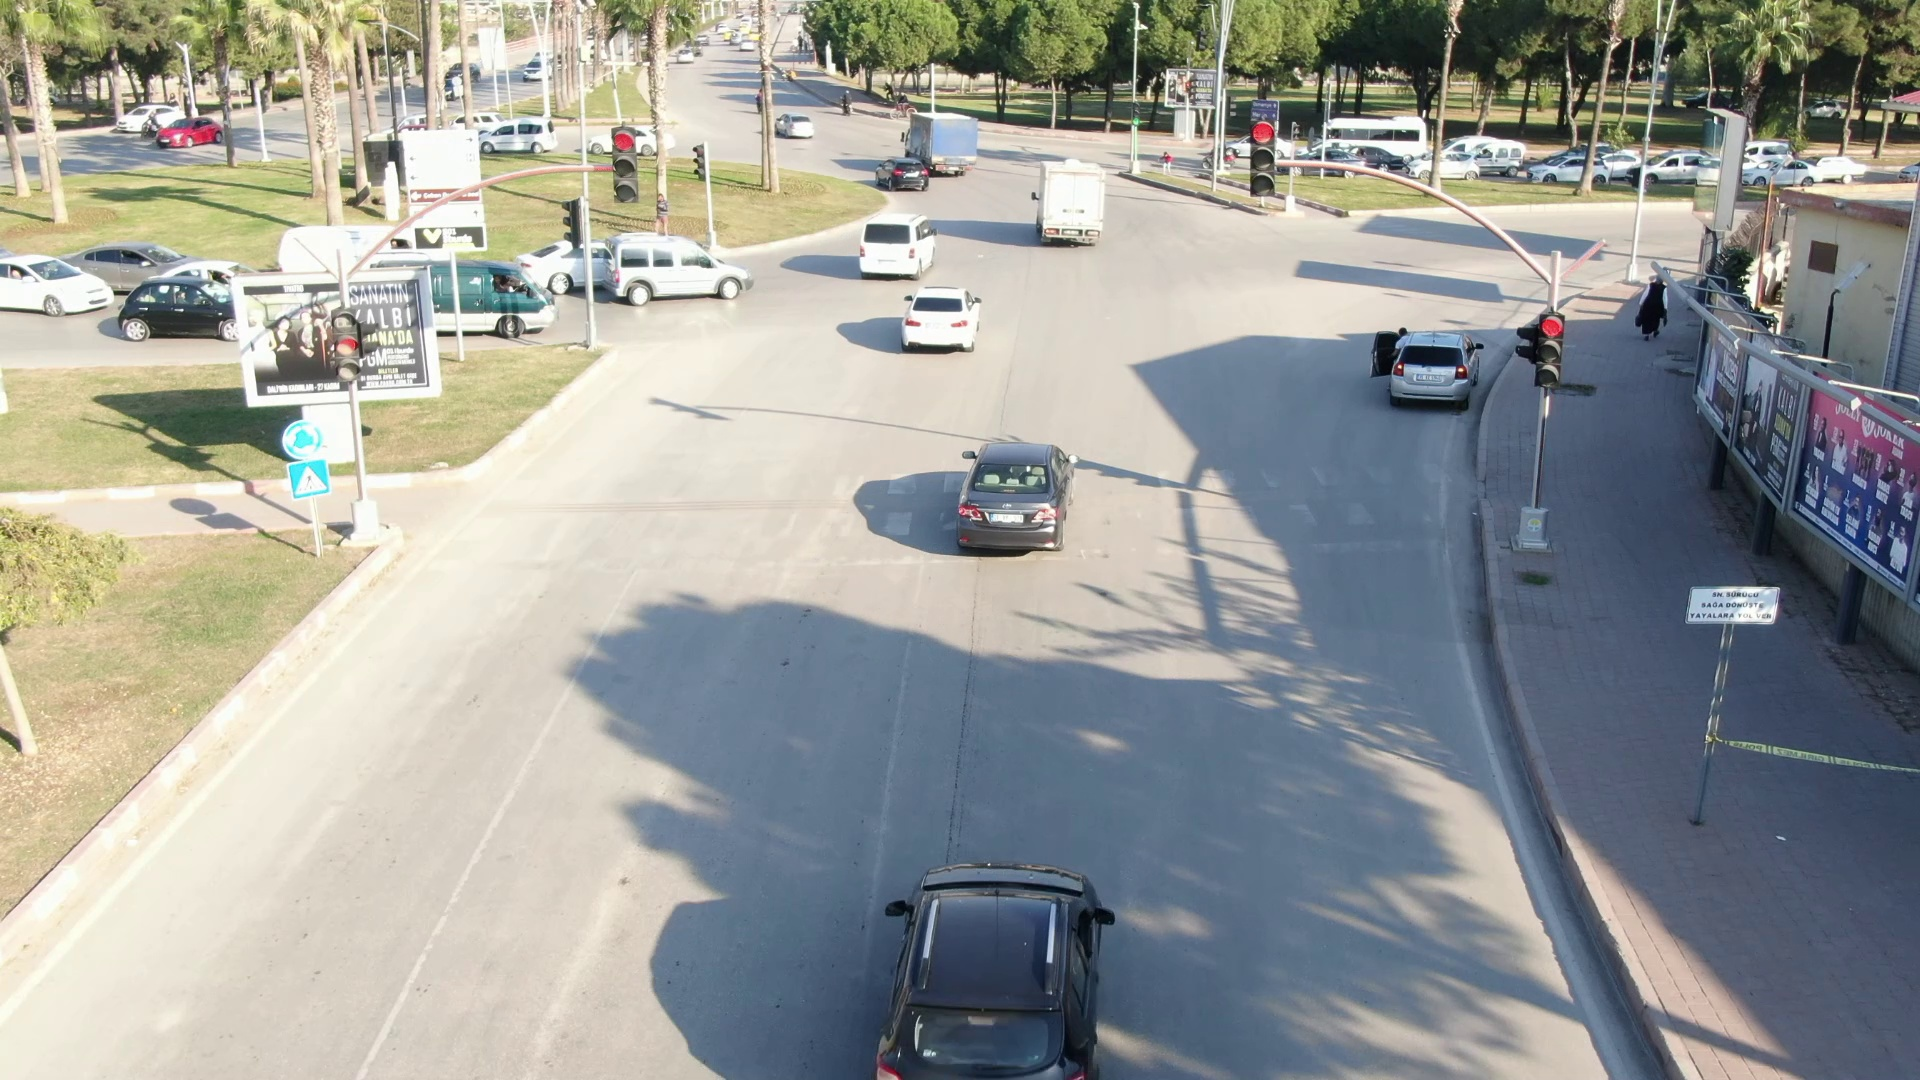car: (841, 837, 1156, 1076), (928, 416, 1097, 564), (593, 226, 764, 313), (1018, 149, 1127, 254), (1380, 331, 1496, 416), (887, 280, 1007, 358), (843, 209, 951, 281), (870, 153, 935, 193)
person: (1629, 265, 1685, 342)
